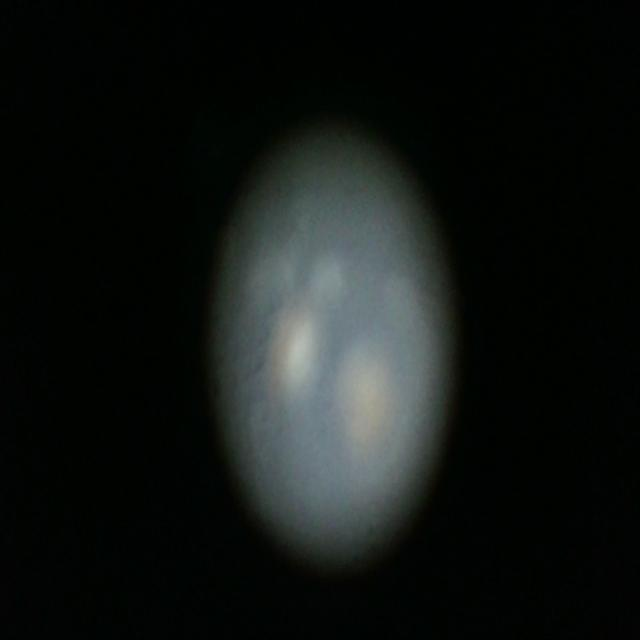alexandrium: (264, 279, 316, 376)
